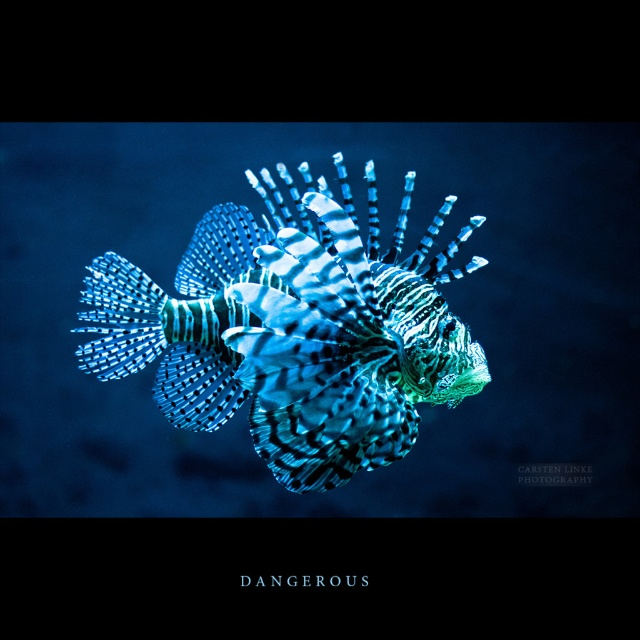Fish: (58, 154, 529, 502)
